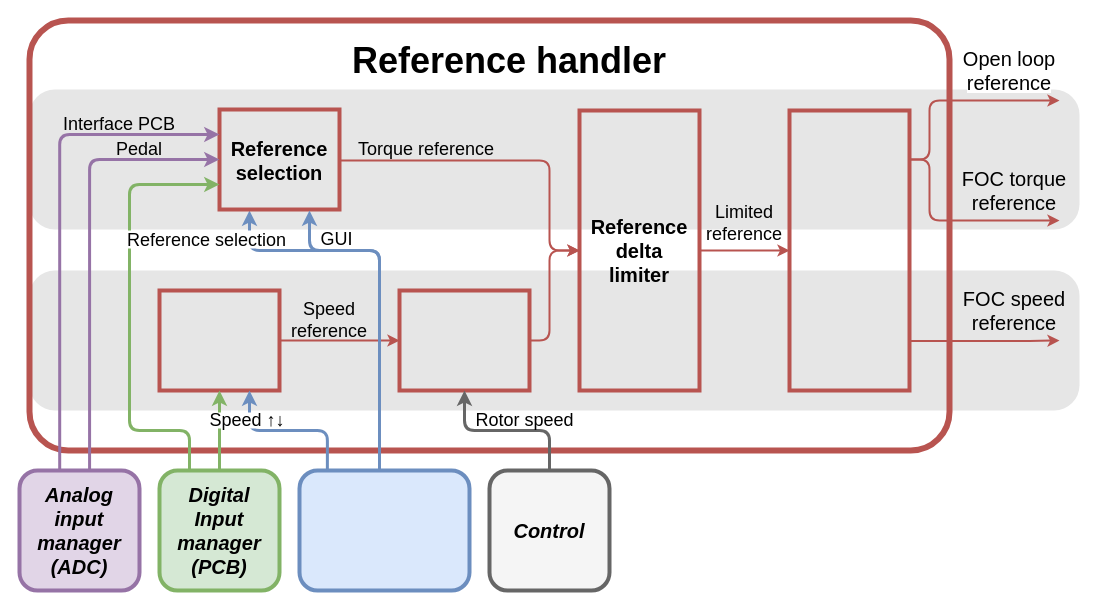
The diagram is 1096 pixels wide and 609 high, and some of its shapes have lost their labels. The shapes that lost their labels are listed below. From the top down, each one's centre as x and y in pixels, then its label:
the point at 849,250: Saturation limit
the point at 219,340: Speed buttons counting
the point at 464,340: Reference calculation
the point at 384,530: Communication manager (GUI)
